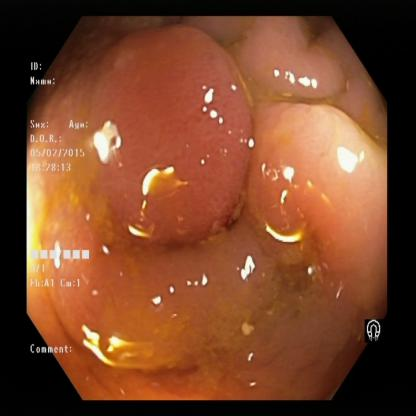Labels: (28, 58, 96, 290), (26, 328, 86, 370), (356, 310, 393, 352)
Polyps: (256, 113, 388, 267), (123, 59, 250, 212), (252, 13, 340, 102)
